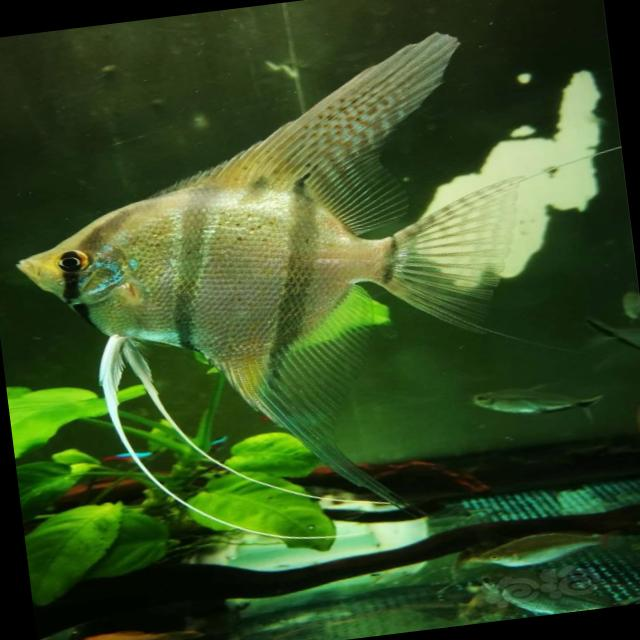AngelFish: (0, 25, 571, 570)
